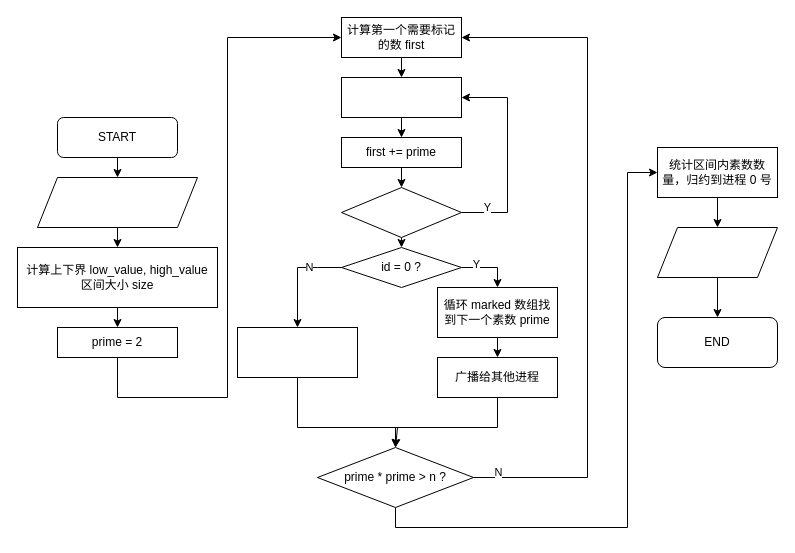
The diagram is 795 pixels wide and 553 high, and some of its shapes have lost their labels. Here are the shapes that lost their labels. From the top down, the centre of each, then its label:
At (401,97): "标记合数 marked[first] = 1".
At (117,202): "该进程编号 id 总进程数 p 总数 n".
At (401,212): "first < size ?".
At (717,252): "输出总素数数量".
At (297,352): "等待接收进程 0 号的广播，获得下一个素数 prime".
